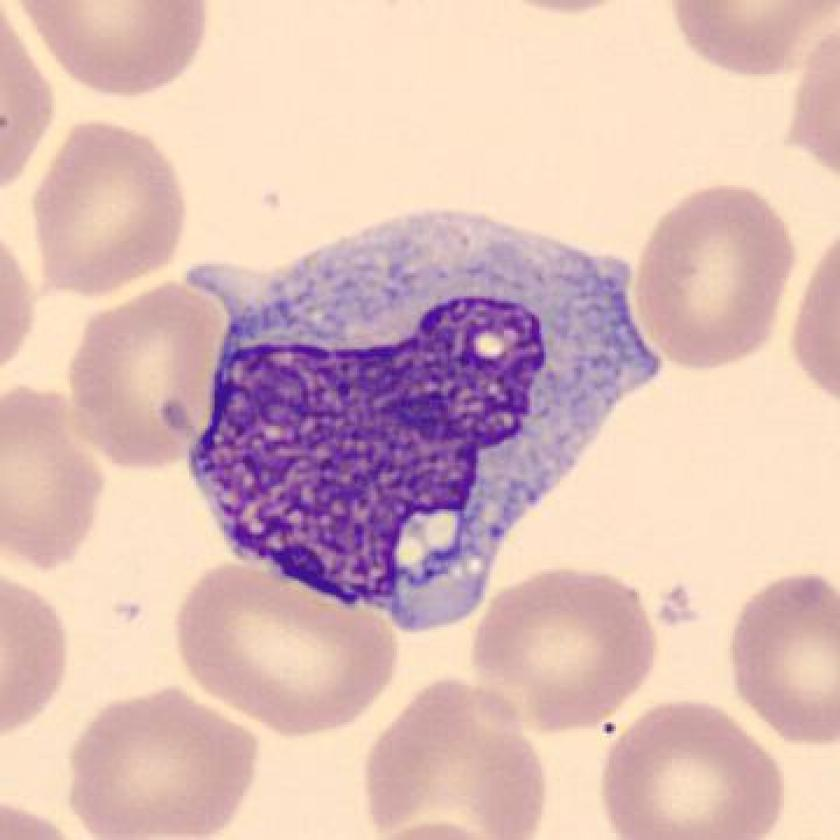monocyte: (155, 181, 682, 649)
